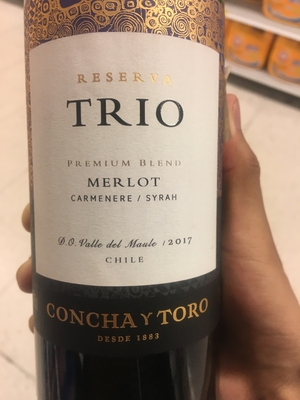trio merlot: (25, 3, 225, 400)
